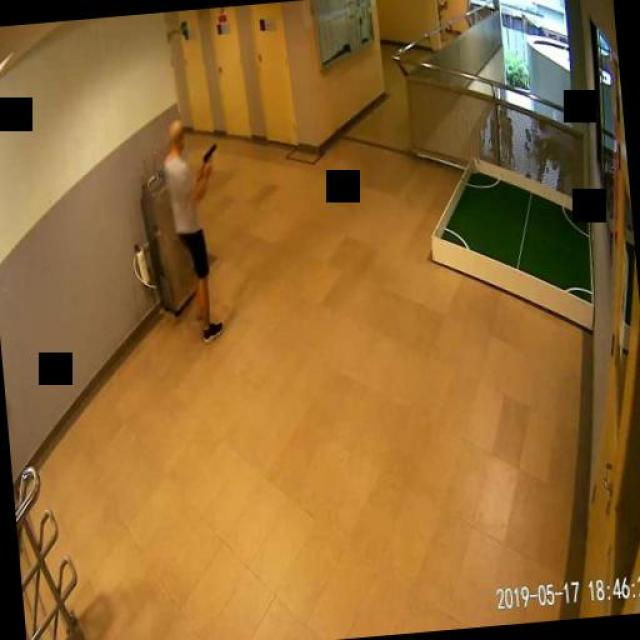gun: (200, 141, 216, 171)
